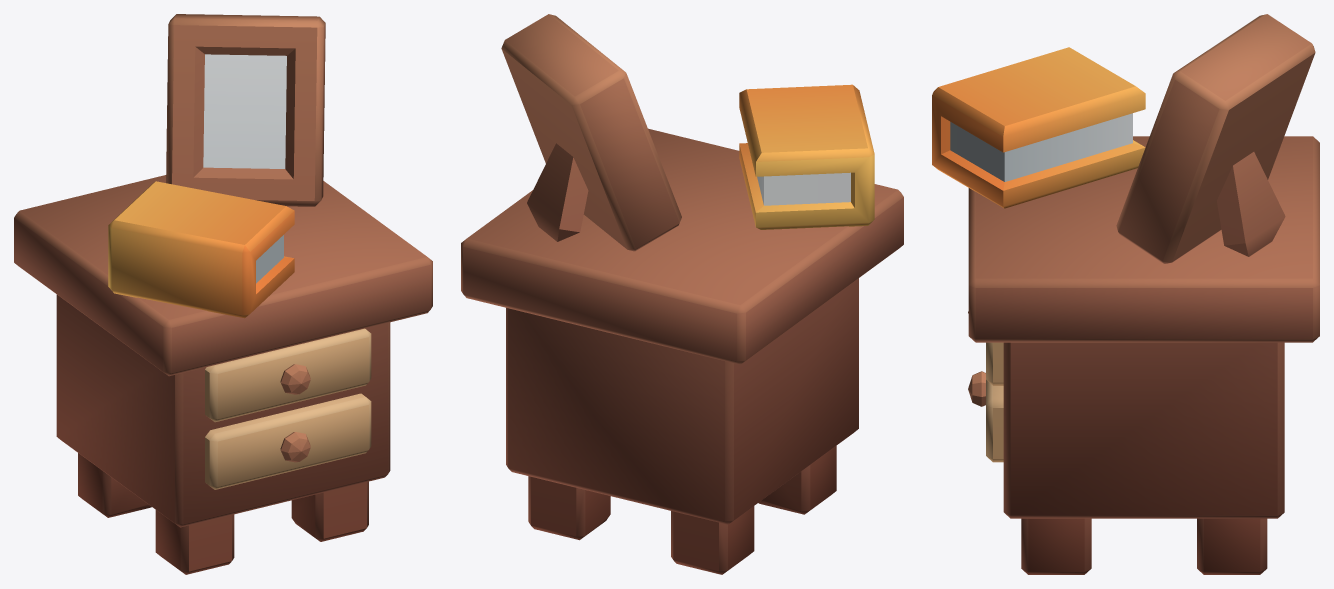
Rendered from cabinet_small_decorated.obj.
The picture shows the model from 3 angles, left to right: view 1: azimuth 30°, elevation 25°; view 2: azimuth 150°, elevation 25°; view 3: azimuth 270°, elevation 25°; orthographic projection. The views are drawn at different scales.
Parts seen in each view (by area): view 1: cabinet_small_decorated_Cube.048; view 2: cabinet_small_decorated_Cube.048; view 3: cabinet_small_decorated_Cube.048.
Boxes of the visible parts, x1,y1,x2,y2 form: cabinet_small_decorated_Cube.048: (14,14,432,574); cabinet_small_decorated_Cube.048: (461,14,903,574); cabinet_small_decorated_Cube.048: (932,14,1319,574).
Size of the model in its own units: 1.05 by 1.62 by 1.1.
Materials: 1 (1 with a texture image).
